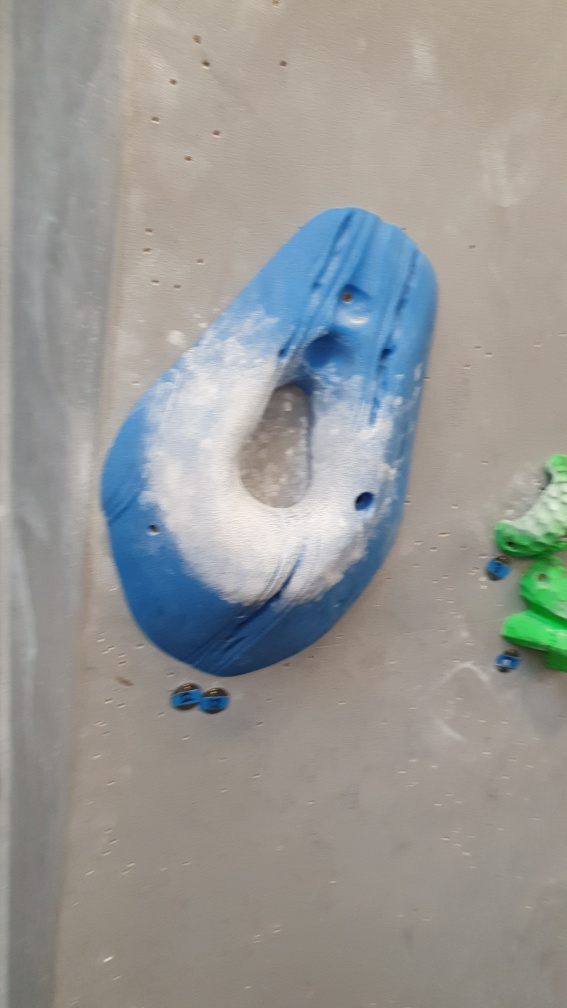Hand Start: (167, 680, 201, 711), (483, 553, 511, 584), (200, 687, 231, 715), (494, 649, 525, 676)
Jug: (491, 450, 567, 560)
Pocket: (97, 205, 440, 679)
